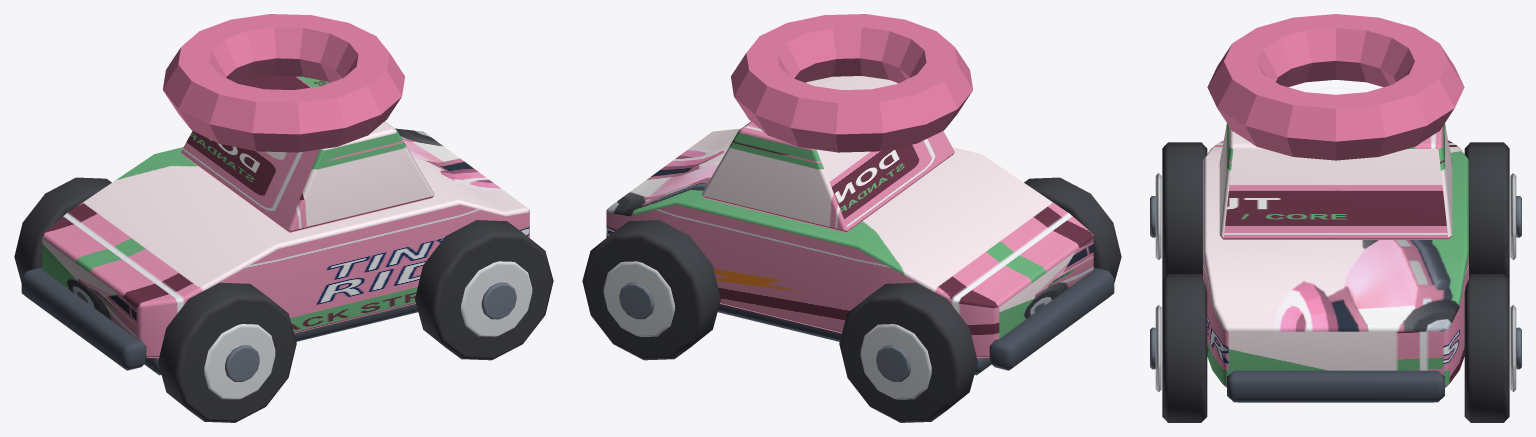
3 views of the same model, side by side, from view 1: azimuth 30°, elevation 25°; view 2: azimuth 150°, elevation 25°; view 3: azimuth 270°, elevation 25° (orthographic). The views are drawn at different scales.
Parts seen in each view (by area): view 1: SS-05_connected_shell, real donut ring, SS-05_cabin, Tire, Tire.002, front bumper, Tire.001, Rim, Rim.002, underbody, Hub.002, Hub; view 2: SS-05_connected_shell, real donut ring, SS-05_cabin, Tire.001, Tire.003, front bumper, Tire, Rim.001, Rim.003, underbody, Hub.003, Hub.001; view 3: SS-05_connected_shell, real donut ring, SS-05_cabin, rear bumper, Tire.002, Tire.003, Tire, Tire.001, Rim, Rim.001, Rim.002, Rim.003.
Boxes of the visible parts, x1,y1,x2,y2 form: SS-05_connected_shell: [42, 128, 529, 358]; real donut ring: [163, 14, 404, 152]; SS-05_cabin: [181, 76, 434, 232]; Tire: [158, 282, 296, 422]; Tire.002: [415, 220, 553, 360]; front bumper: [21, 267, 146, 370]; Tire.001: [14, 177, 111, 282]; Rim: [204, 324, 275, 399]; Rim.002: [461, 261, 532, 336]; underbody: [144, 304, 418, 375]; Hub.002: [481, 282, 516, 319]; Hub: [225, 345, 259, 382]; SS-05_connected_shell: [606, 128, 1093, 358]; real donut ring: [731, 14, 972, 152]; SS-05_cabin: [701, 76, 954, 232]; Tire.001: [839, 282, 977, 422]; Tire.003: [582, 220, 720, 360]; front bumper: [989, 267, 1114, 370]; Tire: [1024, 177, 1121, 282]; Rim.001: [860, 324, 931, 399]; Rim.003: [603, 261, 674, 336]; underbody: [717, 304, 991, 375]; Hub.003: [619, 282, 654, 319]; Hub.001: [876, 345, 910, 382]; SS-05_connected_shell: [1203, 140, 1468, 387]; real donut ring: [1207, 14, 1464, 160]; SS-05_cabin: [1219, 123, 1452, 239]; rear bumper: [1227, 370, 1444, 402]; Tire.002: [1162, 274, 1207, 422]; Tire.003: [1464, 274, 1509, 422]; Tire: [1162, 142, 1207, 279]; Tire.001: [1464, 142, 1509, 279]; Rim: [1155, 173, 1161, 260]; Rim.001: [1510, 173, 1516, 260]; Rim.002: [1155, 305, 1161, 392]; Rim.003: [1510, 305, 1516, 392].
Bounding box in the file's own units: 295 × 183 × 214.
